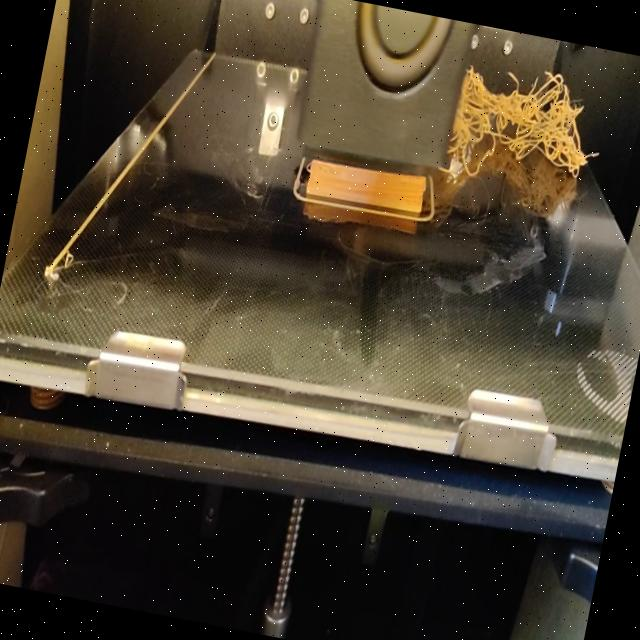spaghetti: (443, 56, 610, 196)
